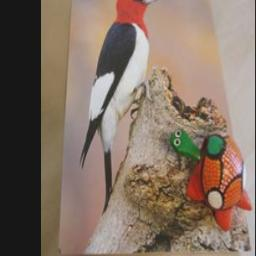Woodpecker: (79, 0, 161, 214)
